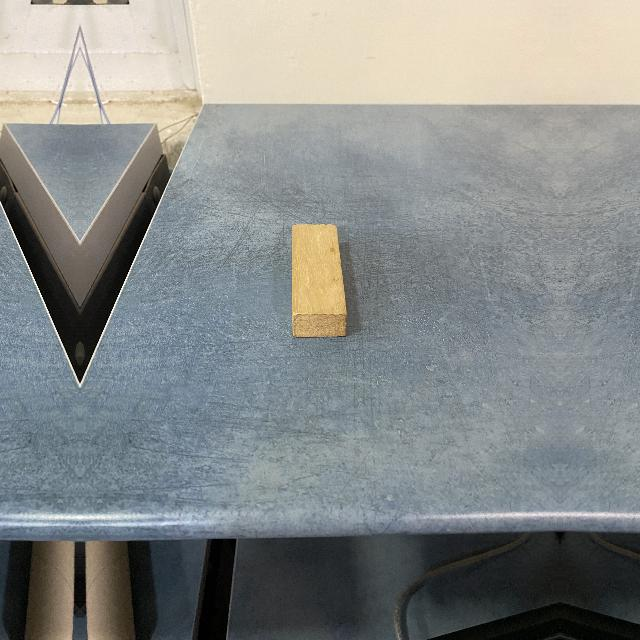jenga: (290, 222, 346, 336)
